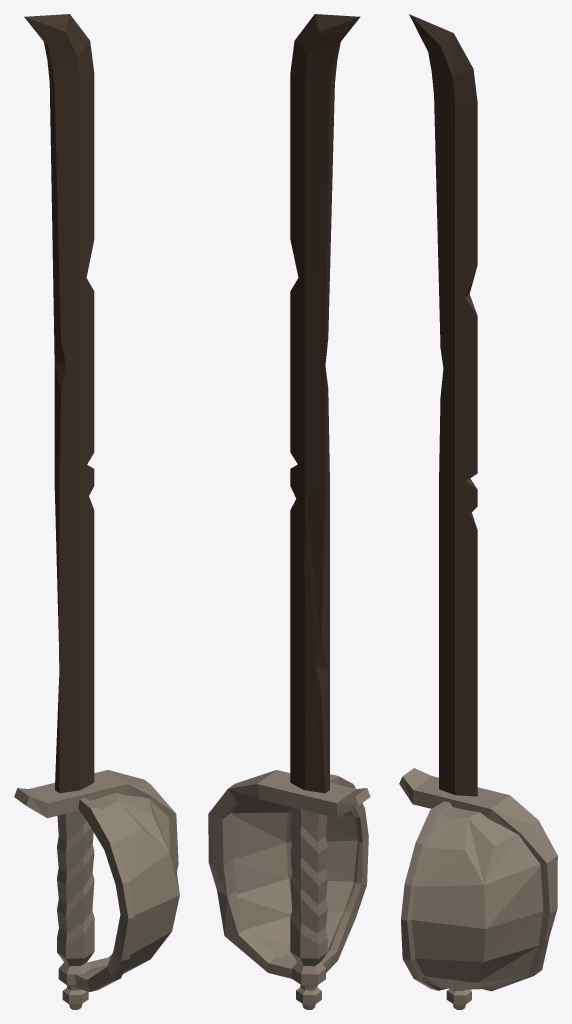
The model's file is SM_Wep_Sabre_02.glb.
The picture shows the model from 3 angles, left to right: view 1: azimuth 30°, elevation 25°; view 2: azimuth 150°, elevation 25°; view 3: azimuth 330°, elevation 25°; orthographic projection. The views are drawn at different scales.
Parts seen in each view (by area): view 1: SM_Wep_Sabre_02_00; view 2: SM_Wep_Sabre_02_00; view 3: SM_Wep_Sabre_02_00.
Boxes of the visible parts, x1,y1,x2,y2 form: SM_Wep_Sabre_02_00: (14,14,179,1009); SM_Wep_Sabre_02_00: (208,14,370,1009); SM_Wep_Sabre_02_00: (399,14,557,1009).
Size of the model in its own units: 0.193 by 1.21 by 0.1438.
1 material, 1 textured.
